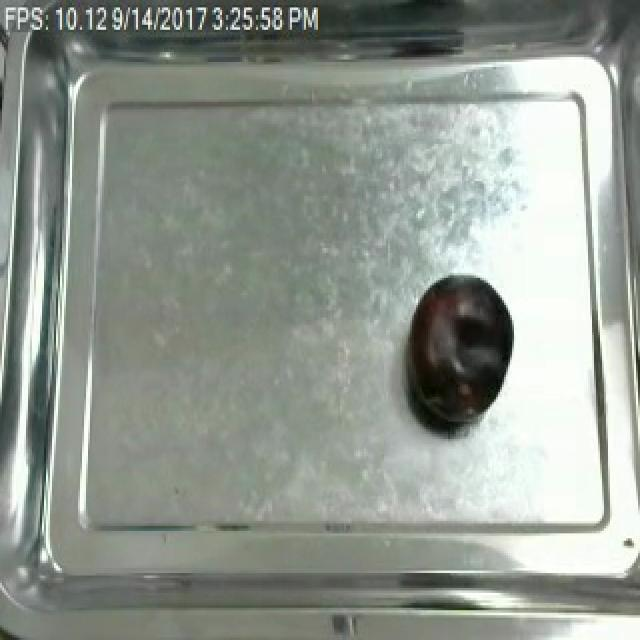Fruit: (398, 268, 522, 429)
